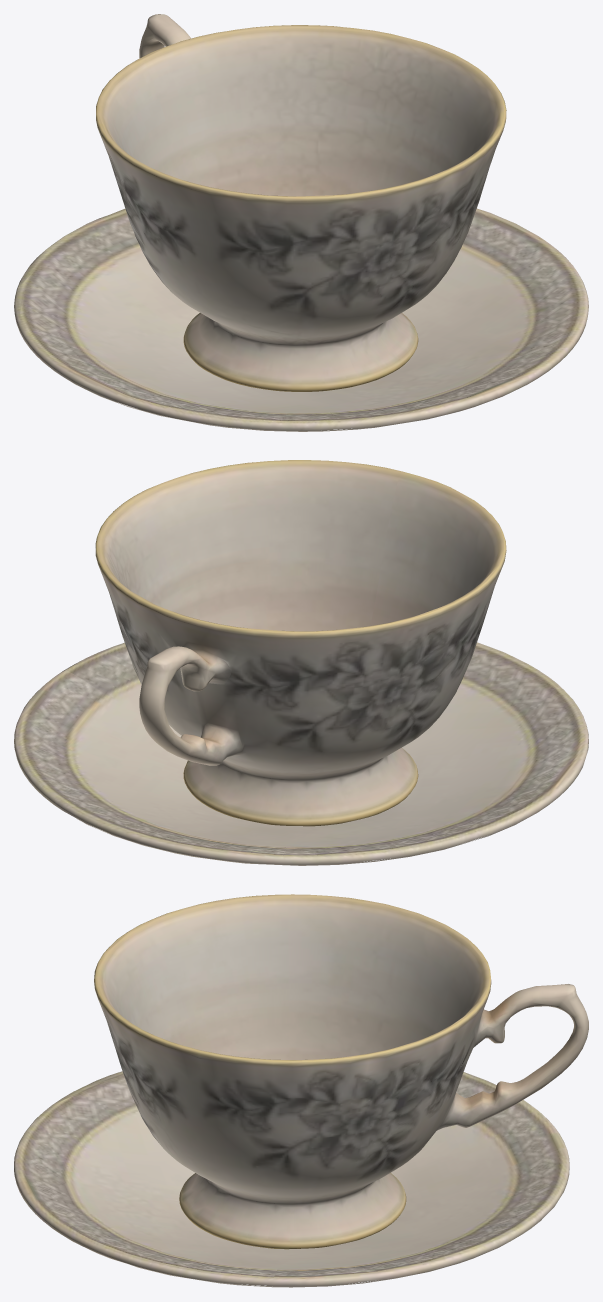
File: teacup.glb
The picture shows the model from 3 angles, top to bottom: view 1: azimuth 30°, elevation 25°; view 2: azimuth 150°, elevation 25°; view 3: azimuth 270°, elevation 25°; orthographic projection. The views are drawn at different scales.
Parts seen in each view (by area): view 1: tea_cup, tea_saucer; view 2: tea_cup, tea_saucer; view 3: tea_cup, tea_saucer.
Boxes of the visible parts, left/top/right/bottom form: tea_cup: left=96, top=14, right=506, bottom=391; tea_saucer: left=14, top=208, right=588, bottom=431; tea_cup: left=95, top=460, right=506, bottom=826; tea_saucer: left=14, top=642, right=588, bottom=865; tea_cup: left=94, top=894, right=588, bottom=1249; tea_saucer: left=14, top=1071, right=569, bottom=1287.
Size of the model in its own units: 0.1486 by 0.0704 by 0.1536.
Materials: 2 (2 with a texture image).
